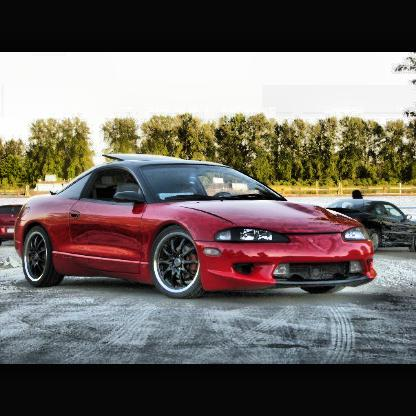Eagle Talon Hatchback 1998: (13, 154, 378, 302)
